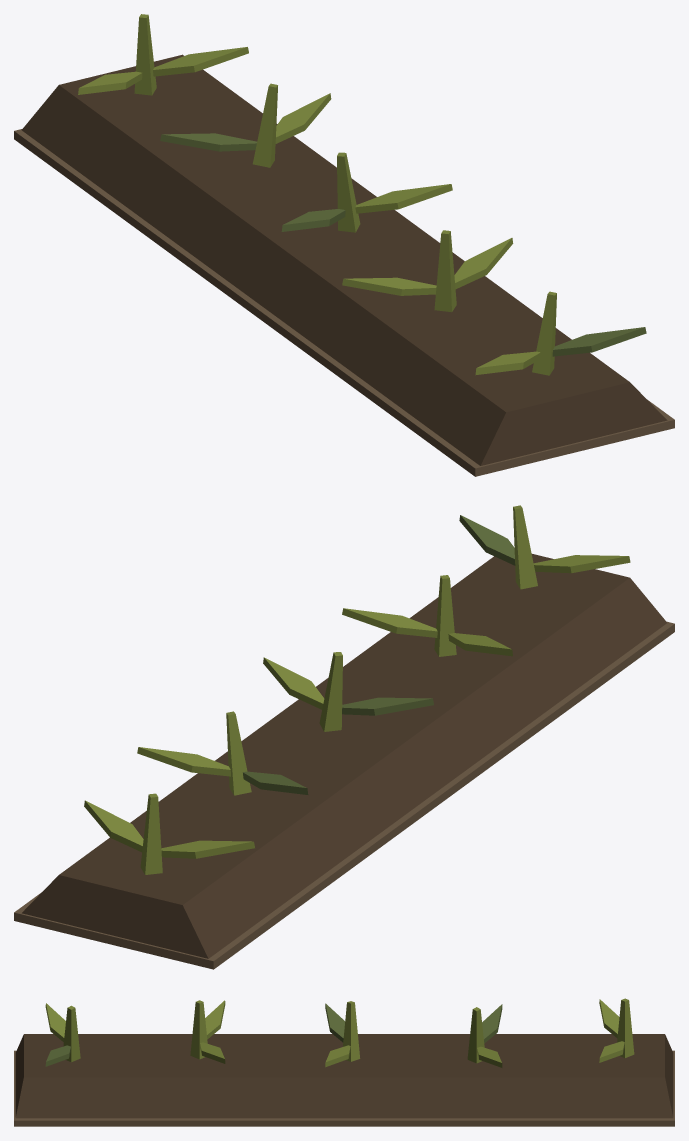
Rendered from crop_corn_s1.glb.
3 views of the same model, one above another, from view 1: azimuth 30°, elevation 25°; view 2: azimuth 150°, elevation 25°; view 3: azimuth 270°, elevation 25° (orthographic). The views are drawn at different scales.
Parts seen in each view (by area): view 1: crop_corn_s1_mesh; view 2: crop_corn_s1_mesh; view 3: crop_corn_s1_mesh.
Part boxes in pixels (x1,y1,x2,y2): crop_corn_s1_mesh: [14, 14, 674, 476]; crop_corn_s1_mesh: [14, 505, 674, 969]; crop_corn_s1_mesh: [14, 998, 674, 1126].
Size of the model in its own units: 0.5 by 0.3016 by 2.
